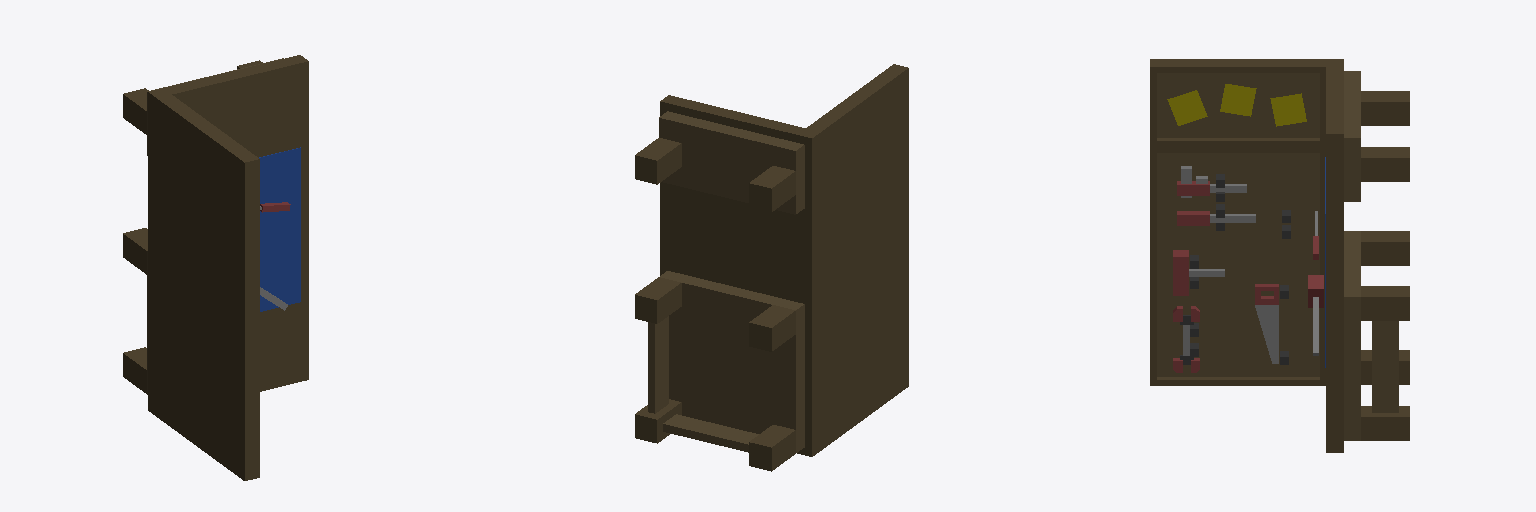
File: workbench.obj
The picture shows the model from 3 angles: view 1: azimuth 30°, elevation 25°; view 2: azimuth 150°, elevation 25°; view 3: azimuth 270°, elevation 25°; orthographic projection.
Visible parts, largest first — view 1: Workbench; view 2: Workbench; view 3: Workbench.
Part boxes in pixels (bbox=[...]): Workbench: bbox=[123, 55, 308, 480]; Workbench: bbox=[635, 64, 908, 471]; Workbench: bbox=[1150, 59, 1409, 452].
Size of the model in its own units: 100 by 200 by 148.